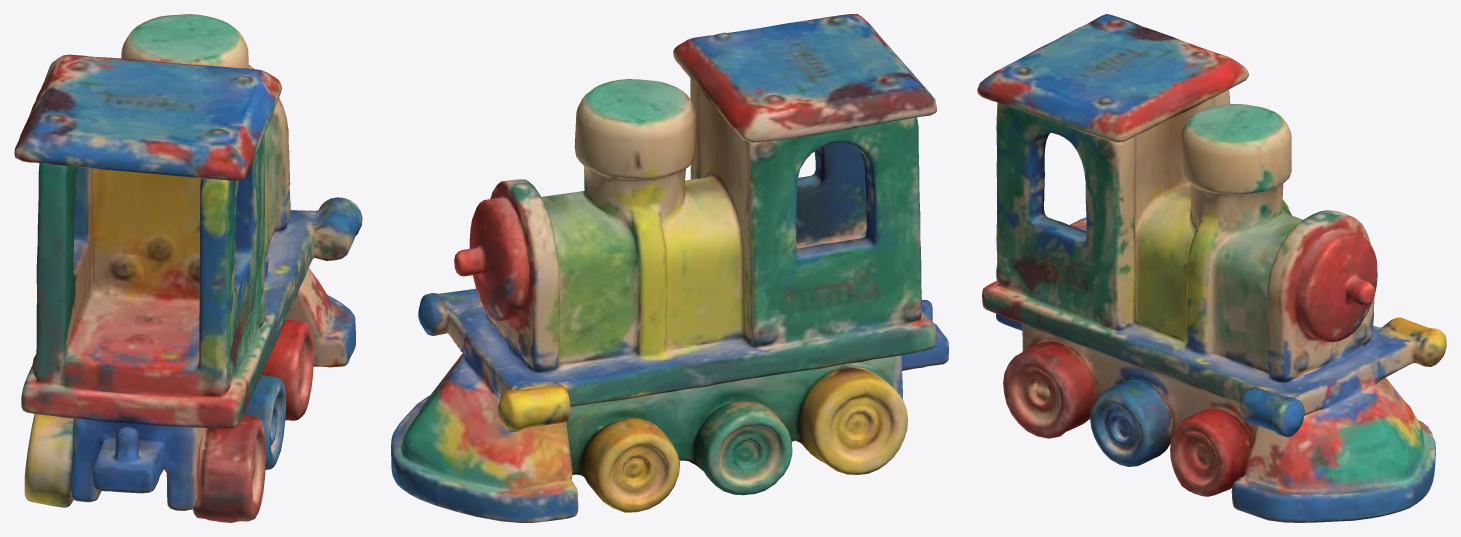
Rendered from toy-train.glb.
The picture shows the model from 3 angles, left to right: view 1: azimuth 30°, elevation 25°; view 2: azimuth 150°, elevation 25°; view 3: azimuth 270°, elevation 25°; orthographic projection. The views are drawn at different scales.
Parts seen in each view (by area): view 1: defaultMaterial; view 2: defaultMaterial; view 3: defaultMaterial.
Part boxes in pixels (x1,y1,x2,y2): defaultMaterial: (14,14,362,522); defaultMaterial: (391,14,948,522); defaultMaterial: (977,14,1446,522).
Bounding box in the file's own units: 0.2856 × 0.2481 × 0.3.
1 material, 1 textured.
